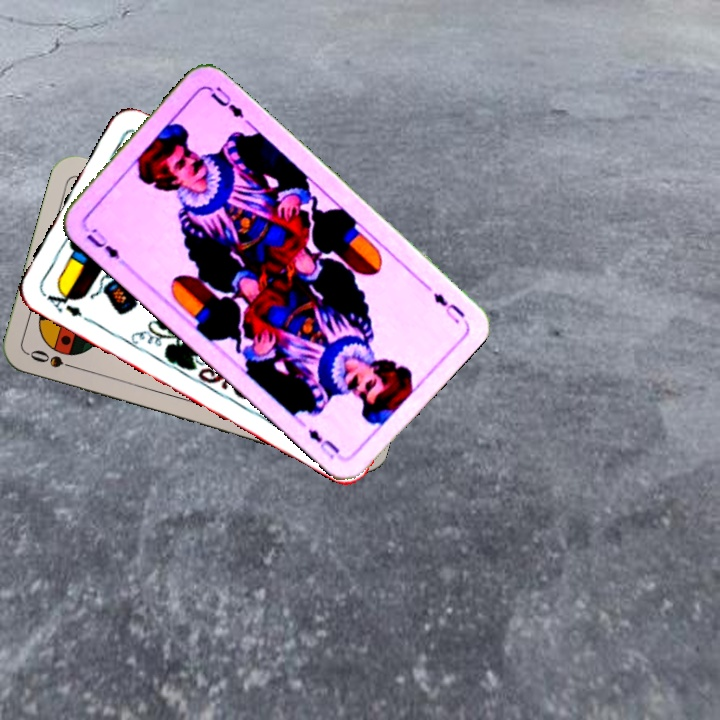EA: (40, 285, 85, 320)
EU: (79, 222, 129, 267), (429, 289, 468, 327)
SO: (25, 345, 83, 373)
